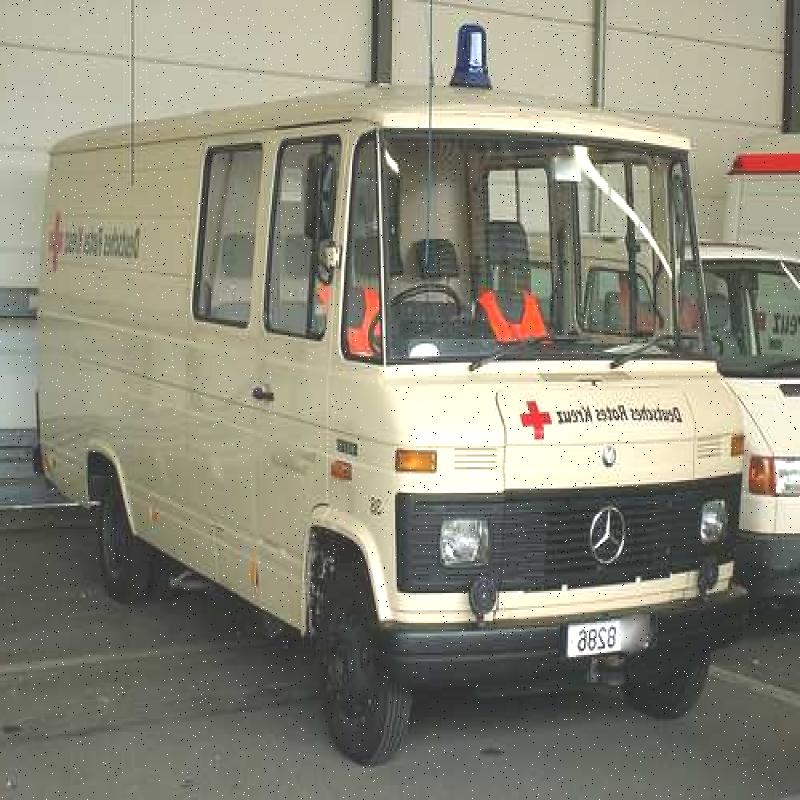AmbulanceSiren: (444, 4, 500, 107)
